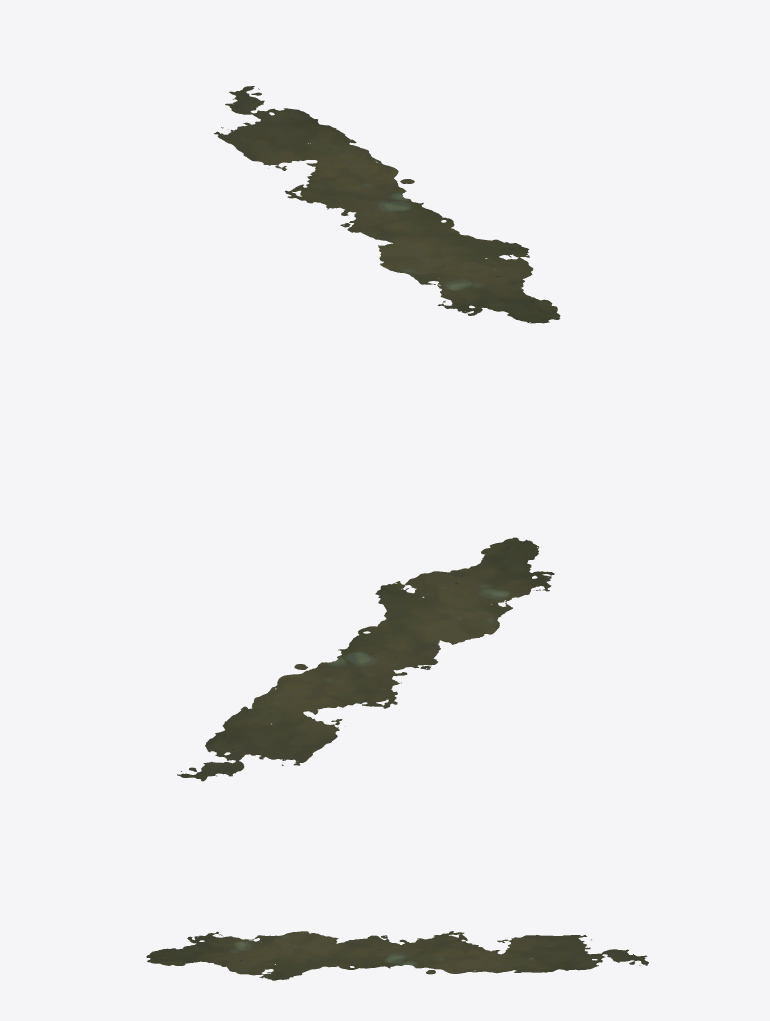
Rendered from road_straight_rock1a.fbx.
The picture shows the model from 3 angles, top to bottom: view 1: azimuth 30°, elevation 25°; view 2: azimuth 150°, elevation 25°; view 3: azimuth 270°, elevation 25°; orthographic projection. The views are drawn at different scales.
Visible parts, largest first — view 1: obj0.058; view 2: obj0.058; view 3: obj0.058.
Boxes of the visible parts, x1,y1,x2,y2 form: obj0.058: [214, 86, 560, 323]; obj0.058: [177, 537, 554, 781]; obj0.058: [146, 931, 648, 980].
Bounding box in the file's own units: 8.37 × 4.71e-06 × 24.47.
